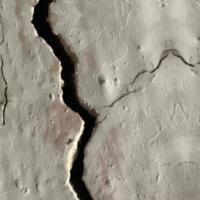crack: (21, 1, 125, 199)
